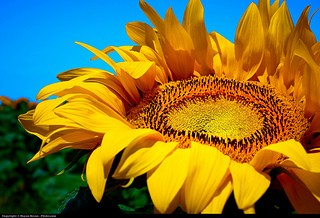flower: (13, 0, 320, 214)
